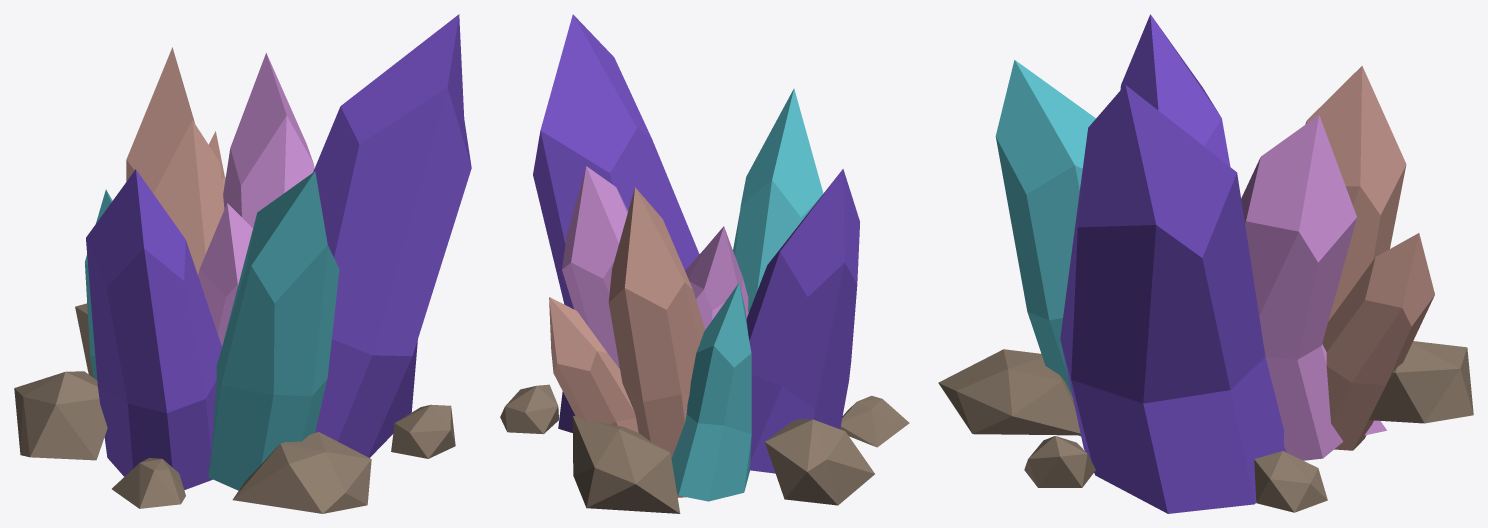
File: Crystal.fbx
The picture shows the model from 3 angles, left to right: view 1: azimuth 30°, elevation 25°; view 2: azimuth 150°, elevation 25°; view 3: azimuth 270°, elevation 25°; orthographic projection. The views are drawn at different scales.
Visible parts, largest first — view 1: Cube.006, Cube.007, Cube.003, Cube.001, Cube.002, Icosphere, Icosphere.005, Cube.004, Icosphere.003, Icosphere.001, Cube, Icosphere.002; view 2: Cube.007, Cube.006, Cube.001, Cube, Cube.003, Icosphere.002, Cube.002, Icosphere.005, Cube.005, Cube.004, Icosphere.004, Icosphere.001; view 3: Cube.006, Cube.002, Cube.003, Cube.005, Cube.001, Icosphere, Cube.007, Icosphere.002, Icosphere.004, Icosphere.003.
Boxes of the visible parts, x1=… form: Cube.006: x1=313, y1=14, x2=471, y2=457; Cube.007: x1=86, y1=169, x2=221, y2=489; Cube.003: x1=208, y1=171, x2=339, y2=490; Cube.001: x1=126, y1=47, x2=224, y2=274; Cube.002: x1=223, y1=53, x2=314, y2=227; Icosphere: x1=232, y1=432, x2=371, y2=513; Icosphere.005: x1=14, y1=371, x2=107, y2=460; Cube.004: x1=198, y1=203, x2=252, y2=346; Icosphere.003: x1=391, y1=404, x2=455, y2=458; Icosphere.001: x1=112, y1=458, x2=185, y2=508; Cube: x1=85, y1=189, x2=112, y2=380; Icosphere.002: x1=75, y1=303, x2=93, y2=377; Cube.007: x1=746, y1=169, x2=859, y2=473; Cube.006: x1=533, y1=14, x2=699, y2=432; Cube.001: x1=608, y1=187, x2=704, y2=497; Cube: x1=671, y1=283, x2=751, y2=501; Cube.003: x1=733, y1=88, x2=823, y2=312; Icosphere.002: x1=572, y1=416, x2=680, y2=513; Cube.002: x1=562, y1=166, x2=627, y2=368; Icosphere.005: x1=765, y1=419, x2=874, y2=505; Cube.005: x1=549, y1=297, x2=638, y2=432; Cube.004: x1=685, y1=226, x2=748, y2=329; Icosphere.004: x1=500, y1=384, x2=558, y2=434; Icosphere.001: x1=840, y1=395, x2=909, y2=447; Cube.006: x1=1060, y1=85, x2=1286, y2=513; Cube.002: x1=1241, y1=115, x2=1386, y2=460; Cube.003: x1=995, y1=60, x2=1095, y2=436; Cube.005: x1=1322, y1=233, x2=1434, y2=450; Cube.001: x1=1305, y1=66, x2=1406, y2=321; Icosphere: x1=938, y1=349, x2=1080, y2=435; Cube.007: x1=1120, y1=14, x2=1230, y2=166; Icosphere.002: x1=1369, y1=341, x2=1473, y2=423; Icosphere.004: x1=1254, y1=451, x2=1327, y2=512; Icosphere.003: x1=1024, y1=436, x2=1095, y2=487.
Size of the model in its own units: 536 by 541 by 569.
